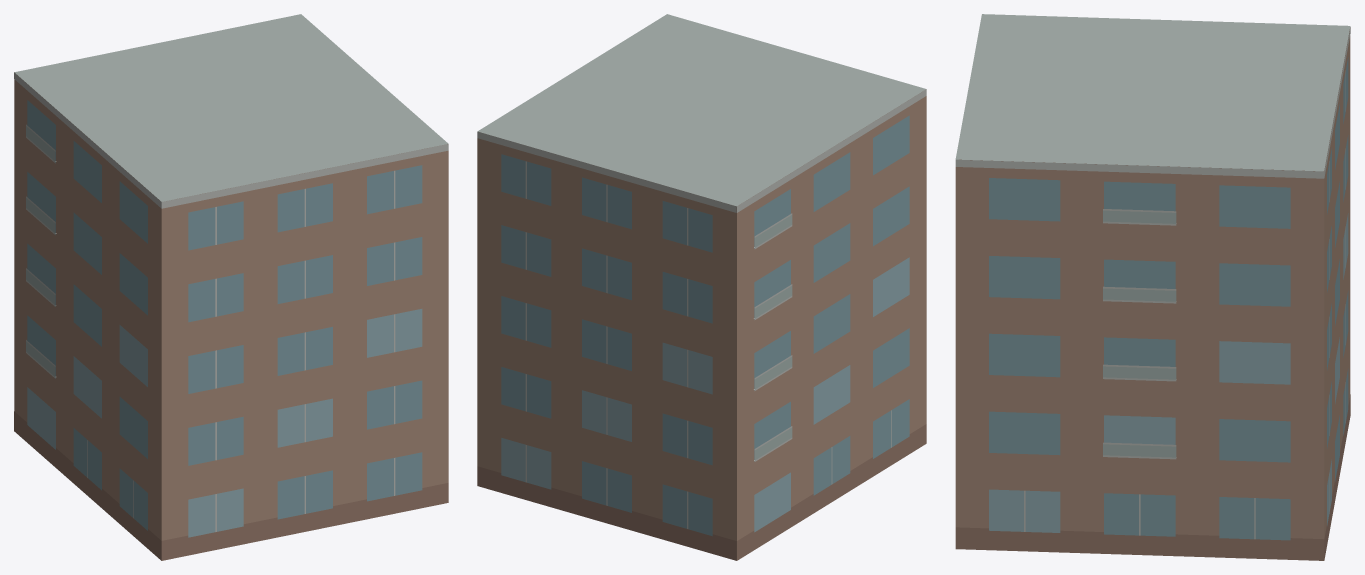
The model's file is survey-upis-32671877.glb.
3 renders of one model, left to right at view 1: azimuth 30°, elevation 25°; view 2: azimuth 150°, elevation 25°; view 3: azimuth 270°, elevation 25°, orthographic. The views are drawn at different scales.
Parts seen in each view (by area): view 1: survey-upis-32671877.tmp; view 2: survey-upis-32671877.tmp; view 3: survey-upis-32671877.tmp.
Boxes of the visible parts, box(x1,y1,x2,y2) form: survey-upis-32671877.tmp: box(14, 14, 448, 560); survey-upis-32671877.tmp: box(477, 14, 926, 560); survey-upis-32671877.tmp: box(955, 14, 1350, 560).
Size of the model in its own units: 11.23 by 12.95 by 11.91.
